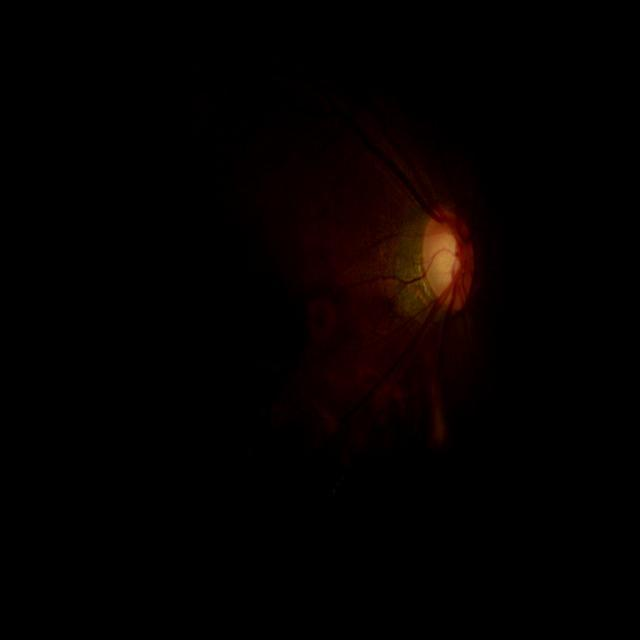cup: (428, 224, 462, 295)
disk: (421, 208, 476, 315)
